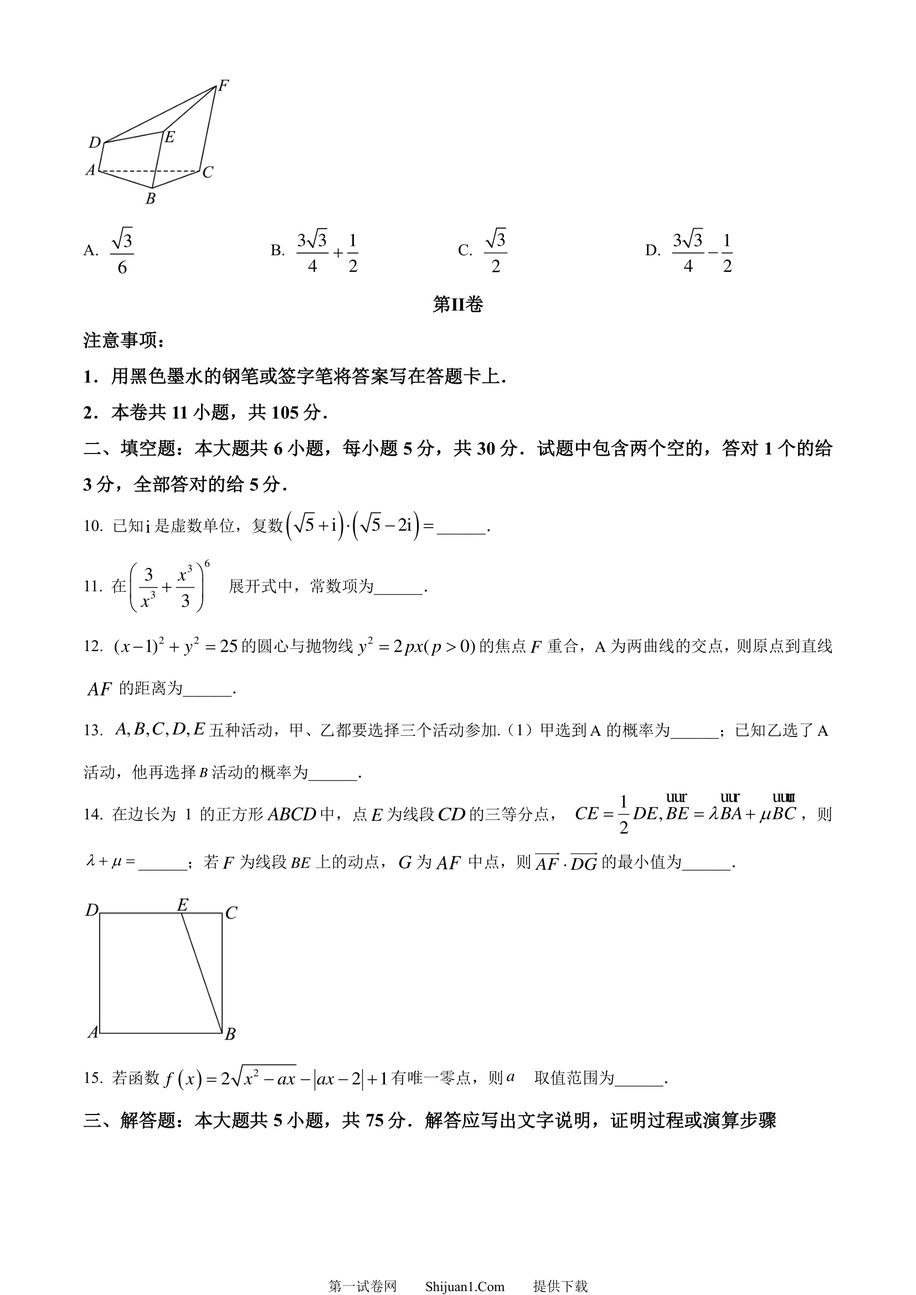question: (68, 791, 843, 1051), (37, 57, 788, 295), (68, 615, 853, 711), (70, 711, 858, 791), (68, 1048, 810, 1101), (68, 550, 458, 615), (68, 497, 528, 550)
